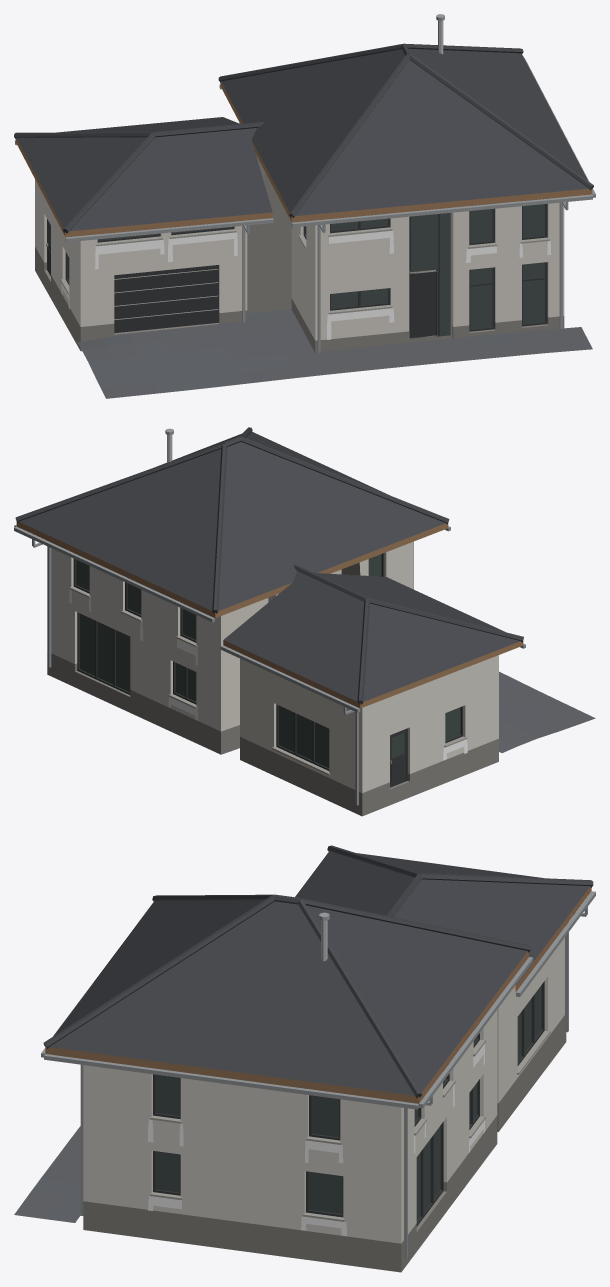
The model's file is vh_pale_hip.glb.
The picture shows the model from 3 angles, top to bottom: view 1: azimuth 30°, elevation 25°; view 2: azimuth 150°, elevation 25°; view 3: azimuth 270°, elevation 25°; orthographic projection. The views are drawn at different scales.
Parts seen in each view (by area): view 1: vh_roof, vh_brick, vh_paving, vh_trim, vh_dark, vh_glass, vh_frames_small, vh_streaks_small, vh_stone; view 2: vh_roof, vh_brick, vh_dark, vh_glass, vh_frames_small, vh_trim, vh_paving, vh_streaks_small, vh_stone; view 3: vh_roof, vh_brick, vh_dark, vh_frames_small, vh_glass, vh_trim, vh_paving, vh_streaks_small, vh_stone.
Boxes of the visible parts, <box> form: vh_roof: <box>14,43,593,233</box>; vh_brick: <box>35,123,564,340</box>; vh_paving: <box>77,309,592,398</box>; vh_trim: <box>15,81,592,338</box>; vh_dark: <box>35,172,564,352</box>; vh_glass: <box>48,199,545,336</box>; vh_frames_small: <box>15,58,595,353</box>; vh_streaks_small: <box>61,230,551,339</box>; vh_stone: <box>60,227,549,314</box>; vh_roof: <box>15,427,523,704</box>; vh_brick: <box>47,541,498,793</box>; vh_dark: <box>47,562,498,816</box>; vh_glass: <box>76,554,460,767</box>; vh_frames_small: <box>14,524,525,805</box>; vh_trim: <box>16,522,523,787</box>; vh_paving: <box>499,671,595,752</box>; vh_streaks_small: <box>69,589,467,760</box>; vh_stone: <box>69,586,467,775</box>; vh_roof: <box>43,845,593,1097</box>; vh_brick: <box>83,927,564,1243</box>; vh_dark: <box>83,1015,566,1272</box>; vh_frames_small: <box>41,891,595,1258</box>; vh_glass: <box>155,985,541,1221</box>; vh_trim: <box>45,886,591,1103</box>; vh_paving: <box>14,1126,81,1222</box>; vh_streaks_small: <box>148,1043,484,1236</box>; vh_stone: <box>149,1030,550,1221</box>.
Size of the model in its own units: 20.82 by 9.88 by 17.23.
